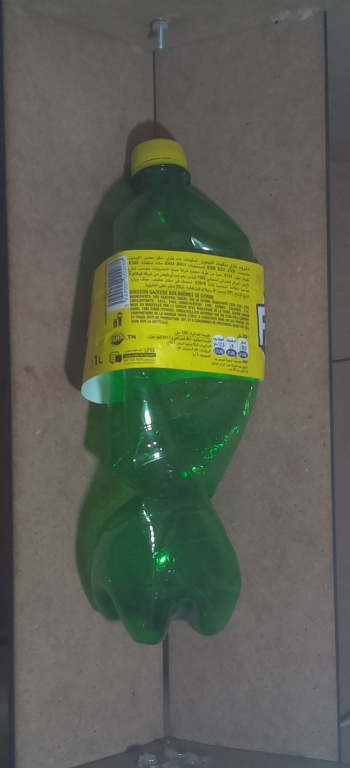Bouteille_1L: (81, 129, 277, 652)
